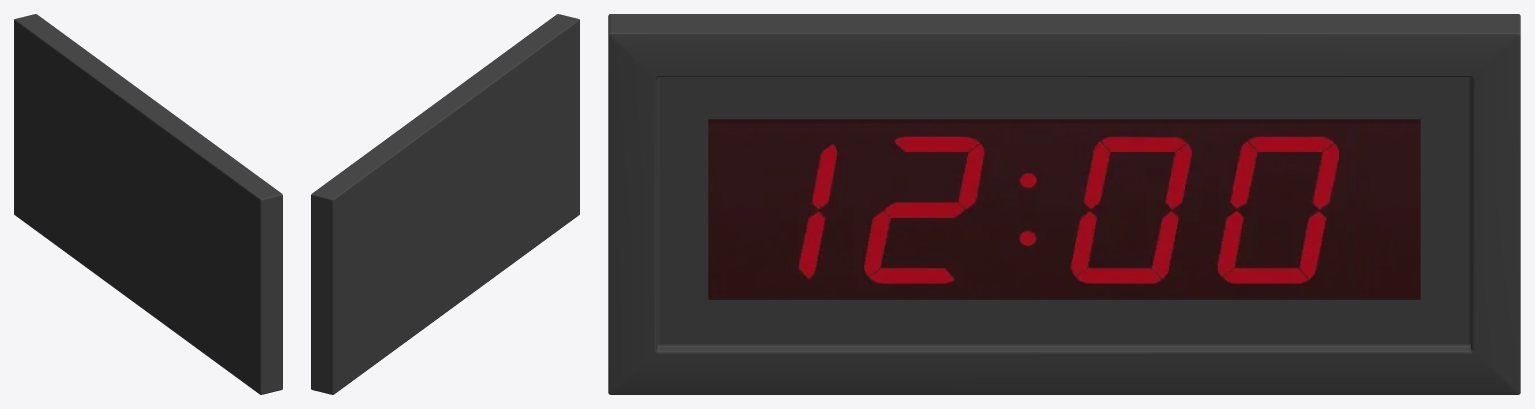
File: DigitalWallClock.fbx
3 renders of one model, left to right at view 1: azimuth 30°, elevation 25°; view 2: azimuth 150°, elevation 25°; view 3: azimuth 270°, elevation 25°, orthographic. The views are drawn at different scales.
Parts seen in each view (by area): view 1: Digital_Clock; view 2: Digital_Clock; view 3: Digital_Clock.
Boxes of the visible parts, x1,y1,x2,y2 form: Digital_Clock: (14,14,282,394); Digital_Clock: (311,14,579,394); Digital_Clock: (608,14,1520,394).
Bounding box in the file's own units: 2 × 16.33 × 37.3.
